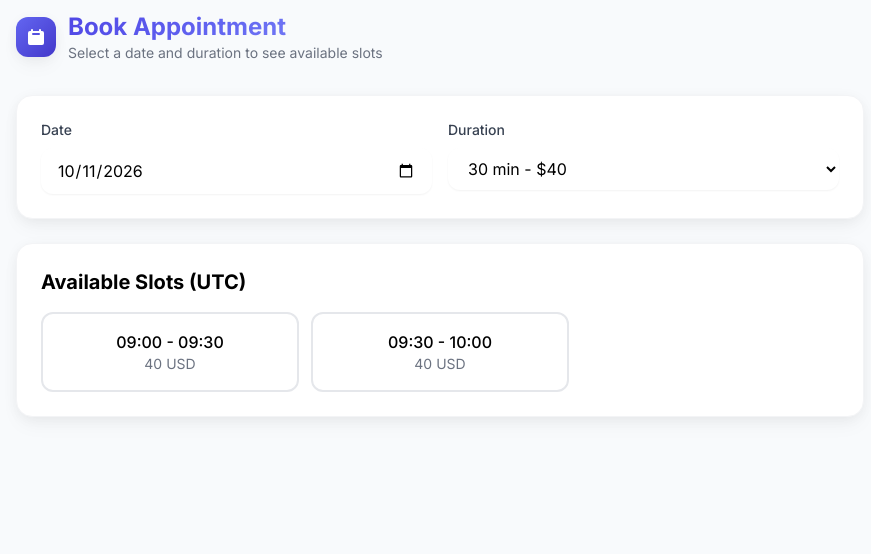
Test: SlotExplorer › should drop the picked slot when the date changes, so a slot that is no longer shown is not booked
This screenshot has width=871, height=554.
Click the button "09:00 - 09:30 40 USD" at [170, 352], box [41, 312, 299, 392]
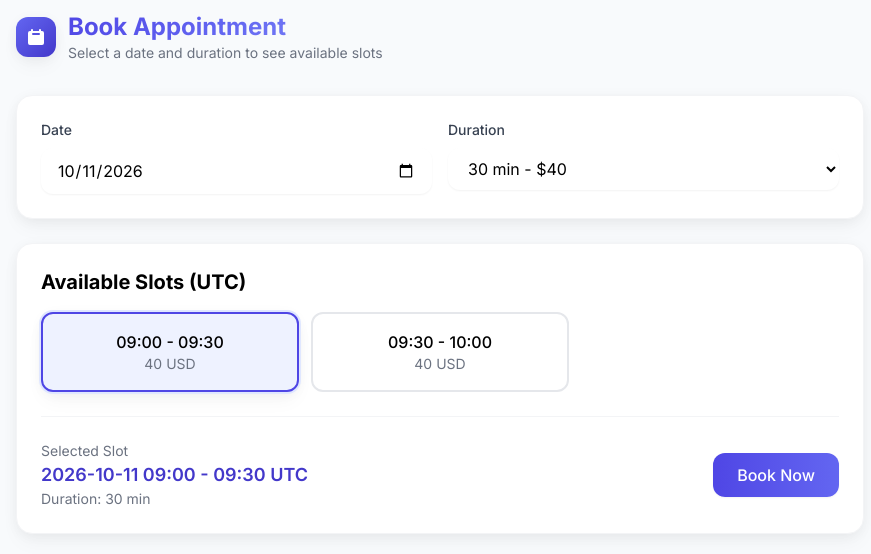
Expected: the button "Book Now" is shown, [713, 453, 839, 497]
Type "2031-05-06" into the date field at [236, 171], box [41, 148, 432, 194]
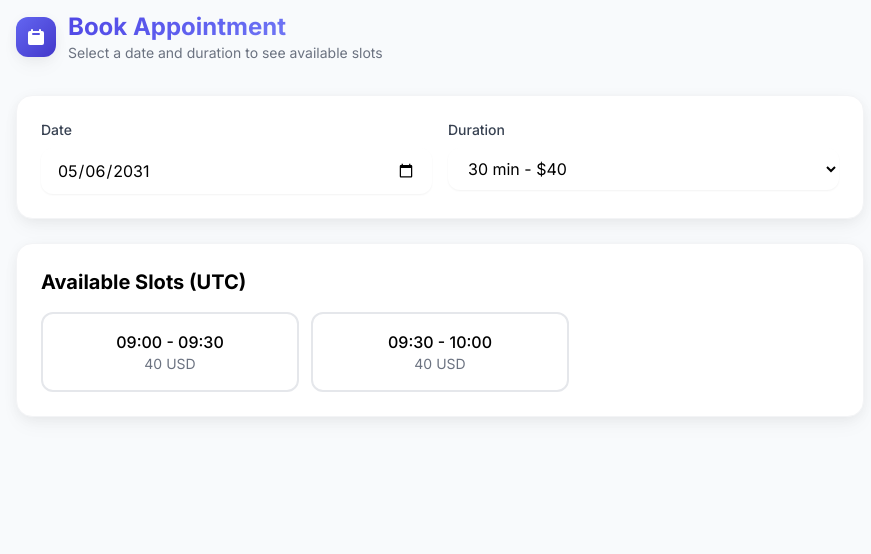
Expected: the button "Book Now" is gone
